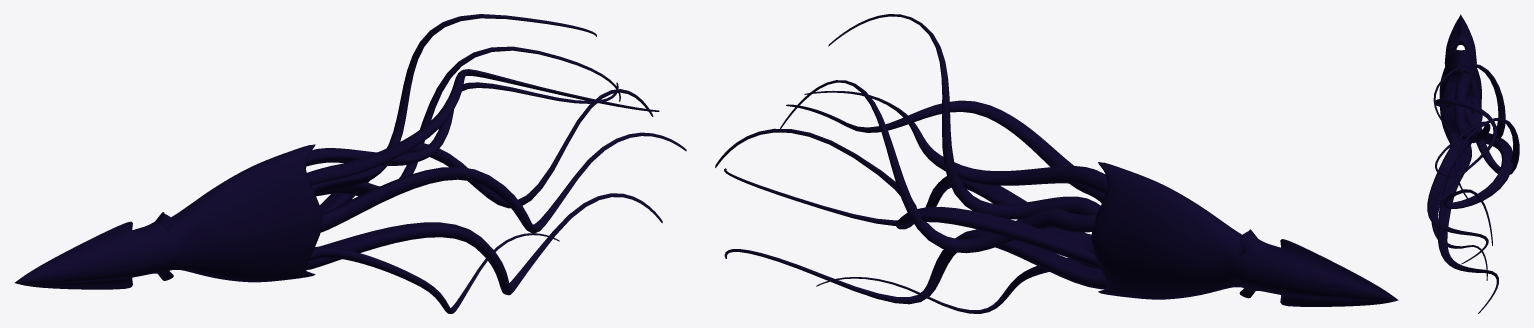
The model's file is Squid.glb.
3 renders of one model, left to right at view 1: azimuth 30°, elevation 25°; view 2: azimuth 150°, elevation 25°; view 3: azimuth 270°, elevation 25°, orthographic. The views are drawn at different scales.
Parts seen in each view (by area): view 1: Squid; view 2: Squid; view 3: Squid.
Part boxes in pixels (box(x1,y1,x2,y2)): Squid: box(15, 14, 686, 313); Squid: box(715, 14, 1398, 313); Squid: box(1427, 14, 1519, 313).
Bounding box in the file's own units: 25.2 × 10.04 × 4.33.
